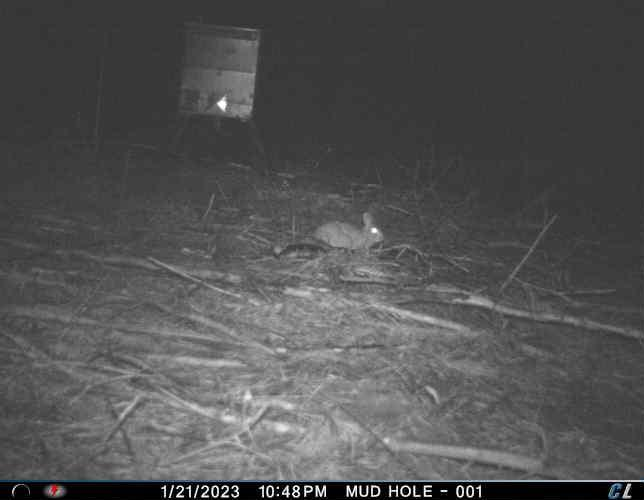Rabbit: (312, 211, 384, 256)
